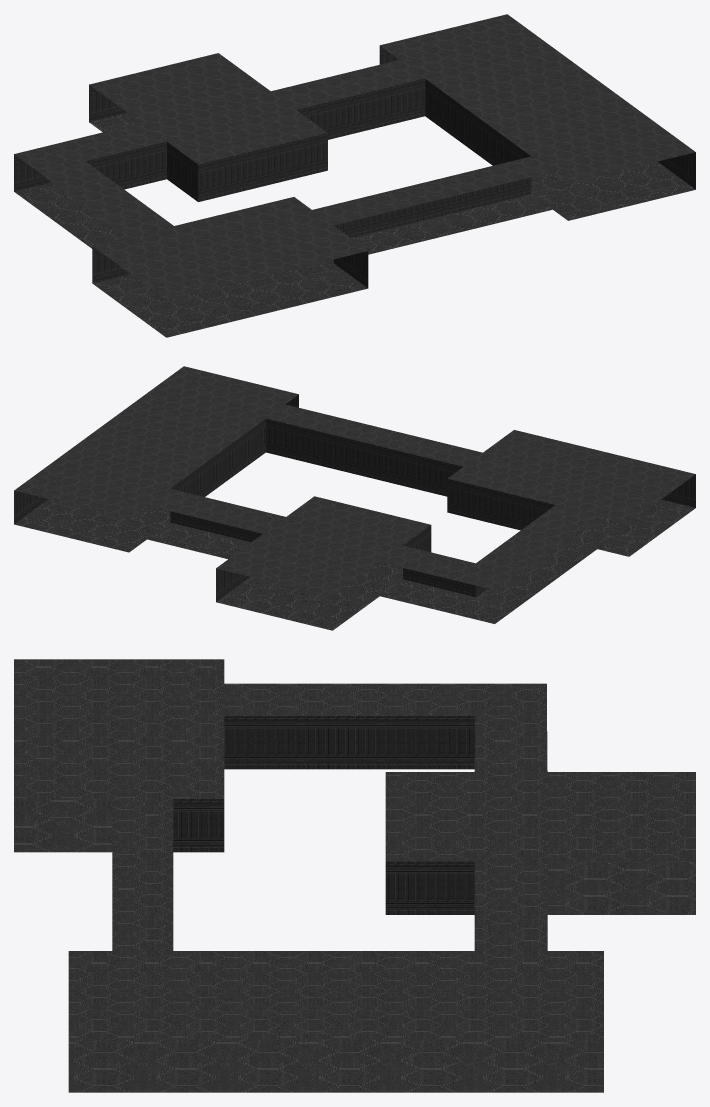
File: map_test01.glb
3 renders of one model, top to bottom at view 1: azimuth 30°, elevation 25°; view 2: azimuth 150°, elevation 25°; view 3: azimuth 270°, elevation 25°, orthographic. The views are drawn at different scales.
Parts seen in each view (by area): view 1: Plano; view 2: Plano; view 3: Plano.
Boxes of the visible parts, x1,y1,x2,y2 form: Plano: (14,14,695,337); Plano: (14,366,695,630); Plano: (14,659,695,1092).
Size of the model in its own units: 30.19 by 1.97 by 22.89.
Materials: 2 (2 with a texture image).
